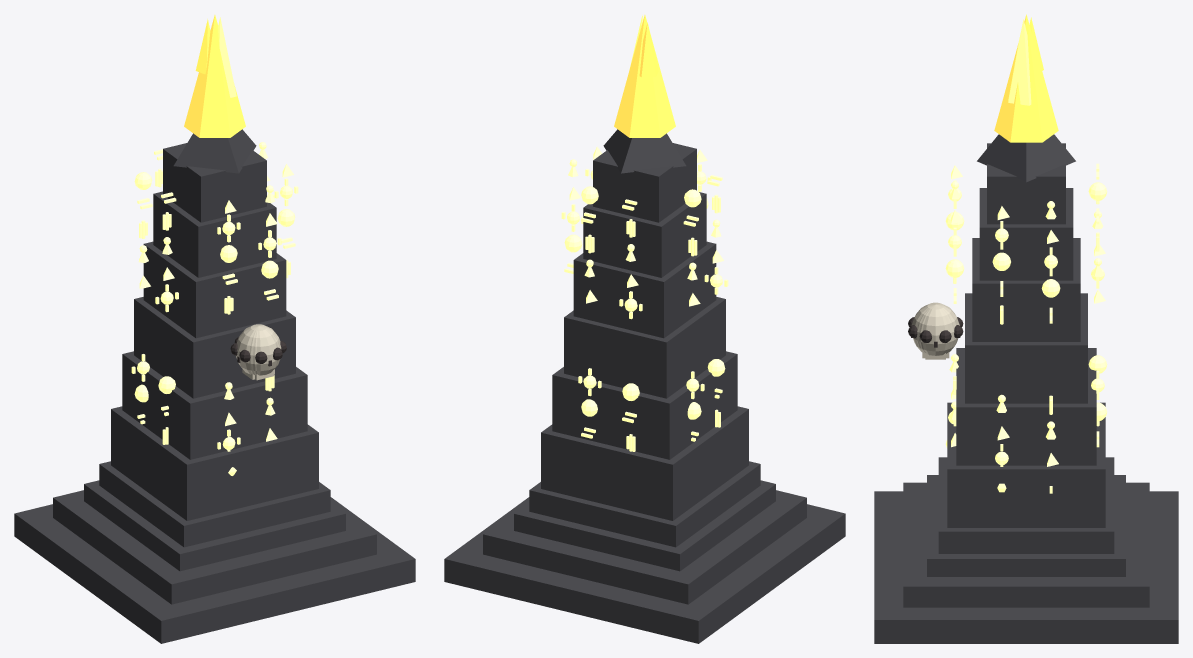
The model's file is HW-001-obelisk-DRAFT.glb.
The picture shows the model from 3 angles, left to right: view 1: azimuth 30°, elevation 25°; view 2: azimuth 150°, elevation 25°; view 3: azimuth 270°, elevation 25°; orthographic projection. The views are drawn at different scales.
Visible parts, largest first — view 1: Base0, Shaft_1, Base1, Shaft_2, Shaft_4, Shaft_3, Base2, Shaft_0, Shaft_5, Shaft_6, FireA, Cap (+2 smaller); view 2: Base0, Shaft_1, Base1, Shaft_2, Shaft_3, Shaft_4, Base2, Shaft_0, Shaft_5, Shaft_6, FireA, Cap (+1 smaller); view 3: Base0, Base1, Shaft_1, Shaft_2, Shaft_3, Shaft_4, Base2, Shaft_0, Shaft_5, Shaft_6, FireA, Cap (+4 smaller).
Part boxes in pixels (x1,y1,x2,y2): Base0: (14,497,415,643); Shaft_1: (111,406,318,520); Base1: (53,490,376,604); Shaft_2: (122,351,307,459); Shaft_4: (143,241,286,338); Shaft_3: (134,297,295,398); Base2: (84,480,345,571); Shaft_0: (99,461,330,547); Shaft_5: (153,191,276,277); Shaft_6: (163,143,266,222); FireA: (184,15,245,137); Cap: (173,129,256,173); Base0: (444,497,845,643); Shaft_1: (541,406,748,520); Base1: (483,490,806,604); Shaft_2: (552,351,737,459); Shaft_3: (564,297,725,398); Shaft_4: (573,241,716,338); Base2: (514,480,775,571); Shaft_0: (529,461,760,547); Shaft_5: (583,192,706,277); Shaft_6: (593,143,696,222); FireA: (614,15,675,137); Cap: (603,129,686,173); Base0: (874,491,1178,643); Base1: (903,482,1149,607); Shaft_1: (947,402,1105,527); Shaft_2: (956,348,1096,465); Shaft_3: (965,293,1087,403); Shaft_4: (972,238,1080,341); Base2: (927,475,1125,576); Shaft_0: (938,457,1114,553); Shaft_5: (979,188,1073,280); Shaft_6: (987,143,1065,224); FireA: (994,14,1058,142); Cap: (977,134,1075,182).
Size of what is drawn, in the model's own units: 5.2 by 10.66 by 5.2.
